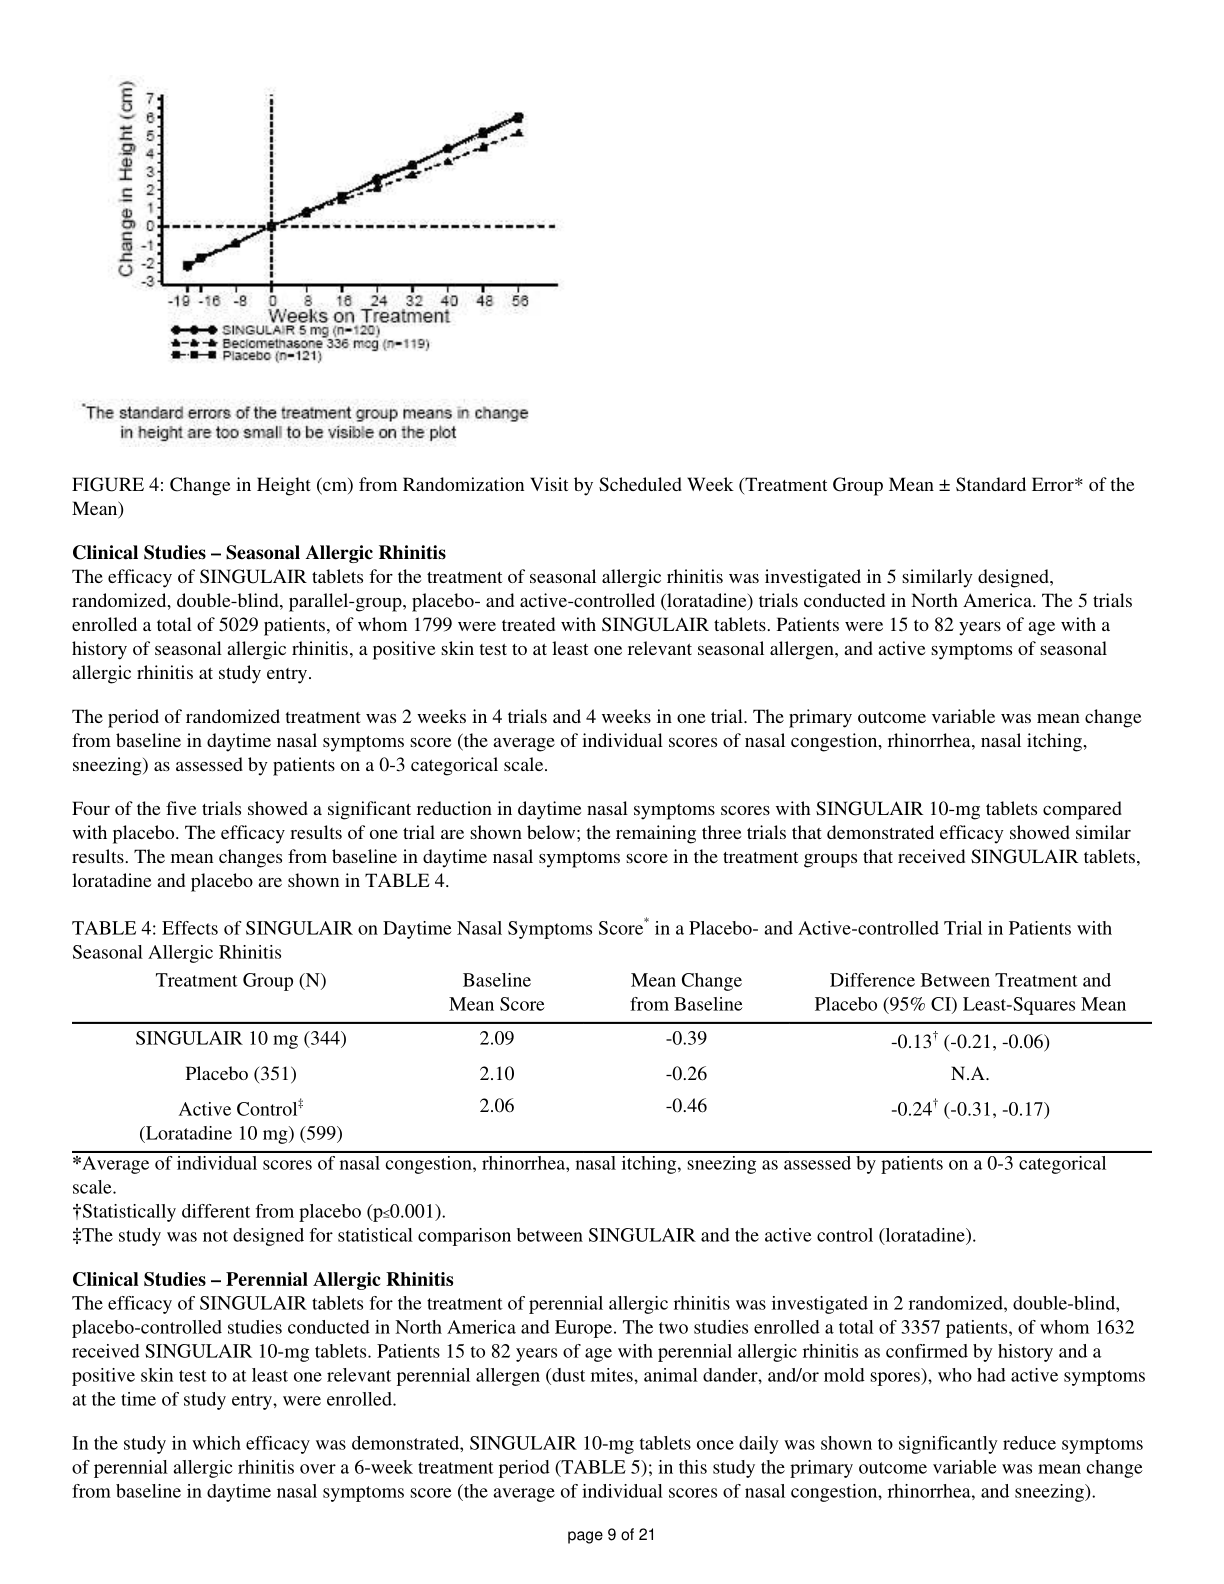partial_lined: (71, 969, 1155, 1155)
